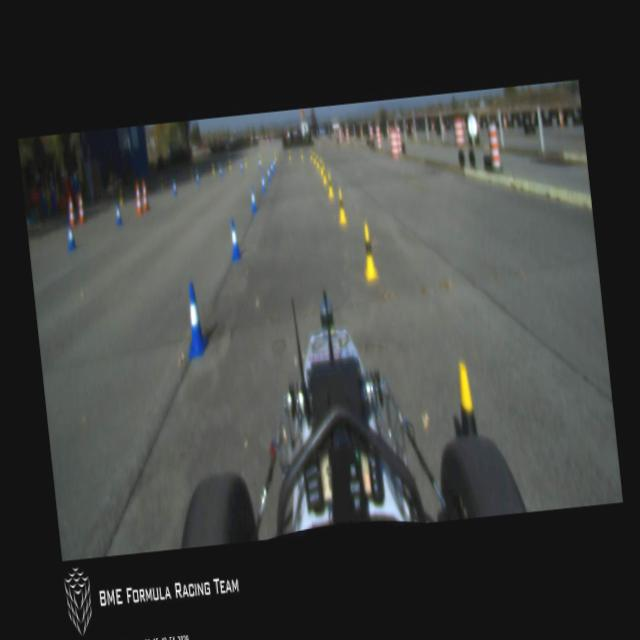blue_cone: (180, 282, 208, 356), (227, 220, 241, 260), (249, 188, 256, 212), (67, 225, 74, 248), (115, 202, 122, 225), (261, 173, 265, 190), (172, 179, 176, 194), (266, 167, 270, 180), (270, 160, 274, 173), (218, 164, 222, 175), (272, 158, 276, 168), (258, 158, 261, 168), (196, 170, 198, 183), (240, 162, 242, 172)
large_orange_cone: (133, 182, 142, 212), (68, 196, 76, 227), (140, 180, 148, 210), (76, 194, 84, 222)
yellow_cone: (454, 362, 478, 440), (358, 222, 378, 280), (336, 188, 346, 224), (326, 172, 334, 196), (318, 158, 324, 174), (117, 190, 123, 206), (321, 165, 326, 183), (316, 152, 320, 168), (312, 150, 316, 163), (258, 153, 262, 163), (300, 148, 303, 160), (244, 155, 247, 167), (288, 150, 291, 160), (309, 149, 312, 159), (211, 164, 214, 172), (274, 151, 276, 160), (228, 160, 230, 168)
